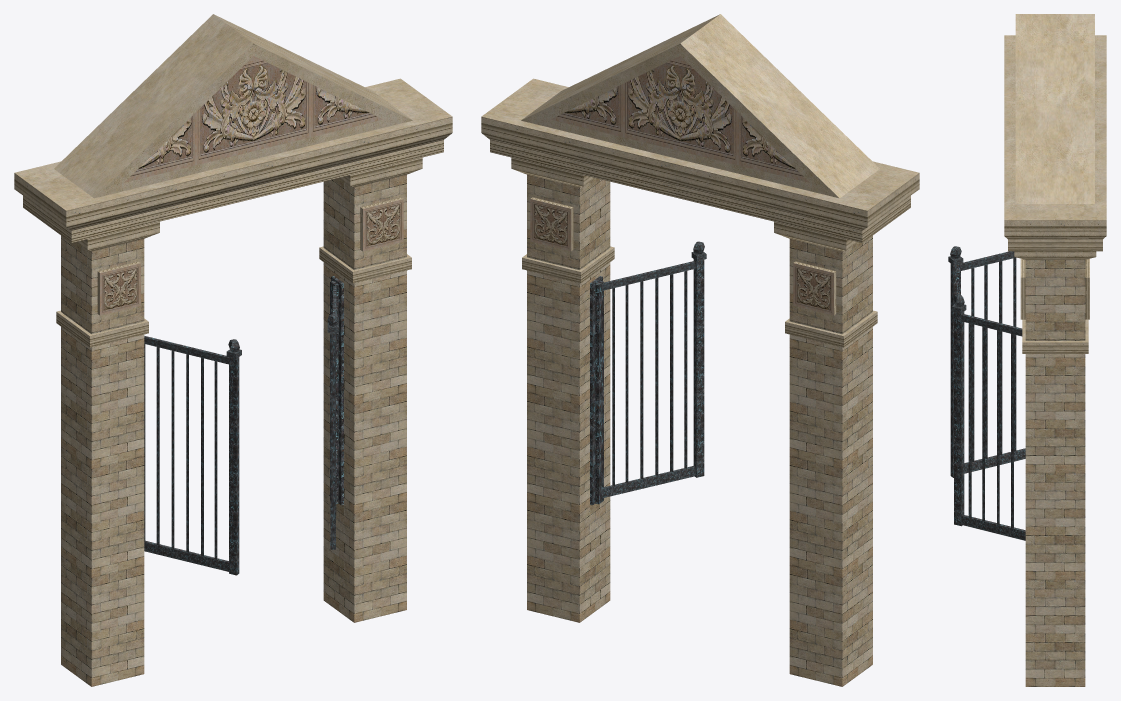
File: thm_nboo_imprv_narrow_gate_s02_l1.fbx
3 views of the same model, side by side, from view 1: azimuth 30°, elevation 25°; view 2: azimuth 150°, elevation 25°; view 3: azimuth 270°, elevation 25° (orthographic).
Parts seen in each view (by area): view 1: mesh_node; view 2: mesh_node; view 3: mesh_node.
Boxes of the visible parts, <box> form: mesh_node: <box>14,14,452,686</box>; mesh_node: <box>481,14,919,686</box>; mesh_node: <box>948,14,1106,686</box>.
Bounding box in the file's own units: 7.31 × 11 × 2.64.
